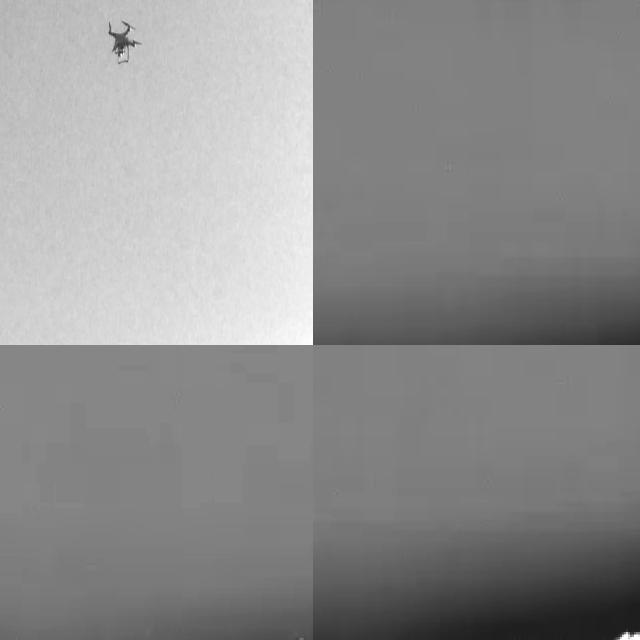0: (282, 625, 313, 640)
drone: (104, 17, 143, 66)
